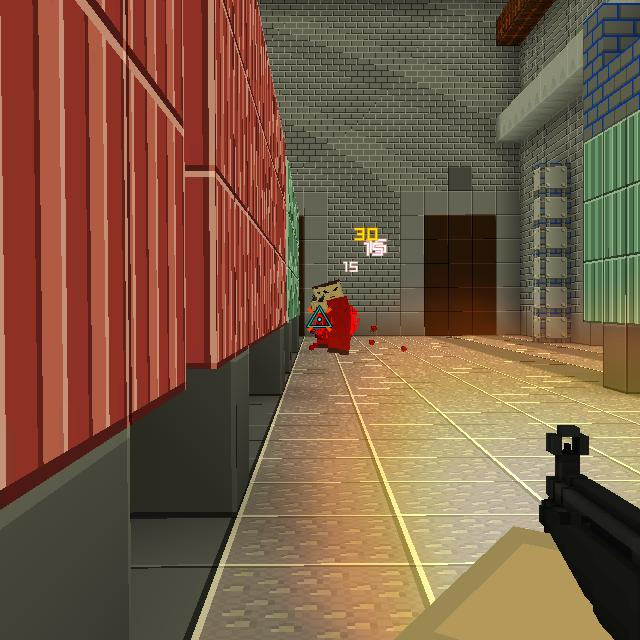enemy: (321, 279, 351, 355), (310, 284, 321, 347)
